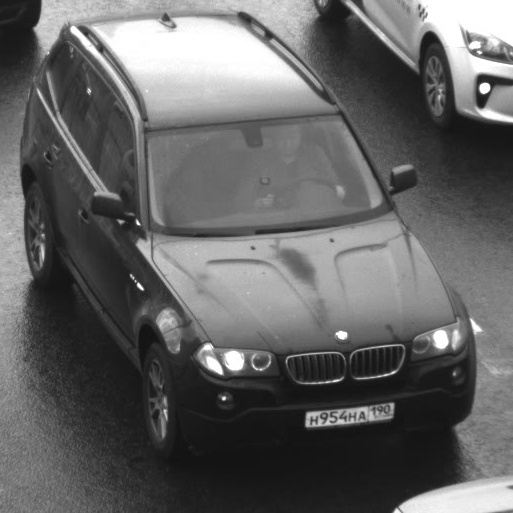plate: (293, 392, 402, 435)
